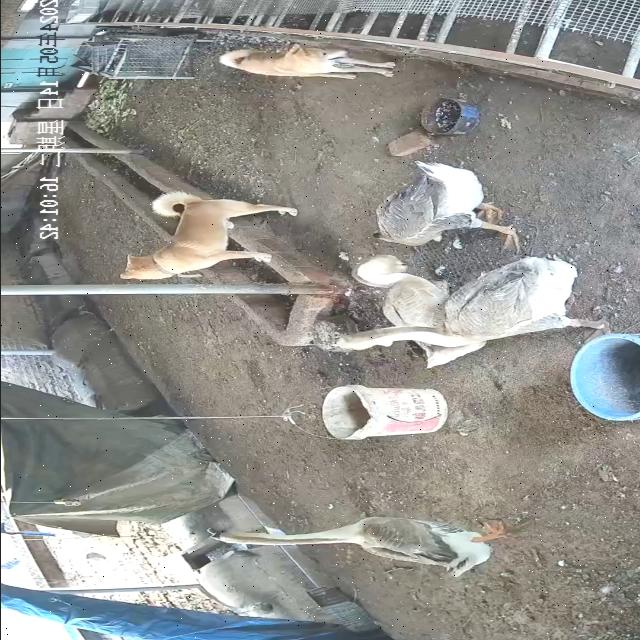dog: (119, 191, 299, 281), (218, 44, 397, 80)
